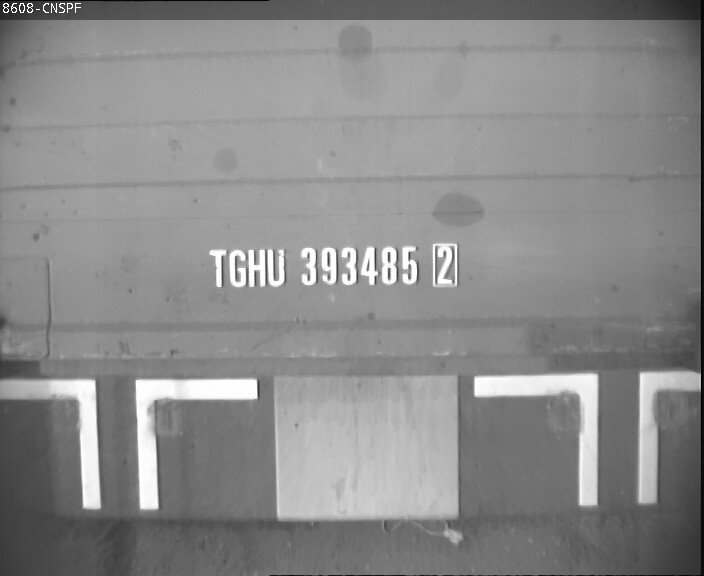groundmarker_1: (1, 376, 258, 508), (471, 373, 704, 503)
